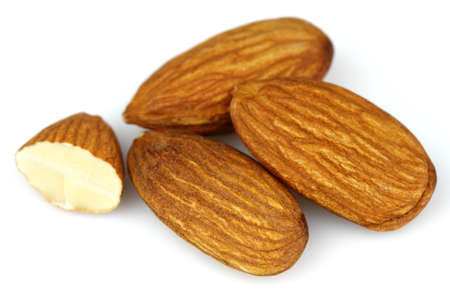almond: (233, 79, 437, 233), (128, 128, 310, 277), (122, 17, 335, 135), (16, 111, 126, 214)
